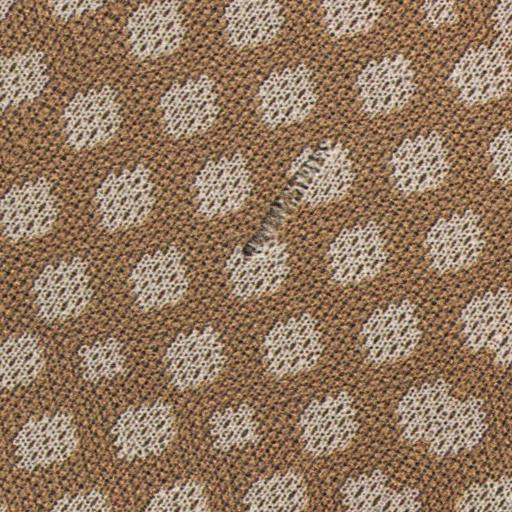slub: (216, 133, 349, 262)
